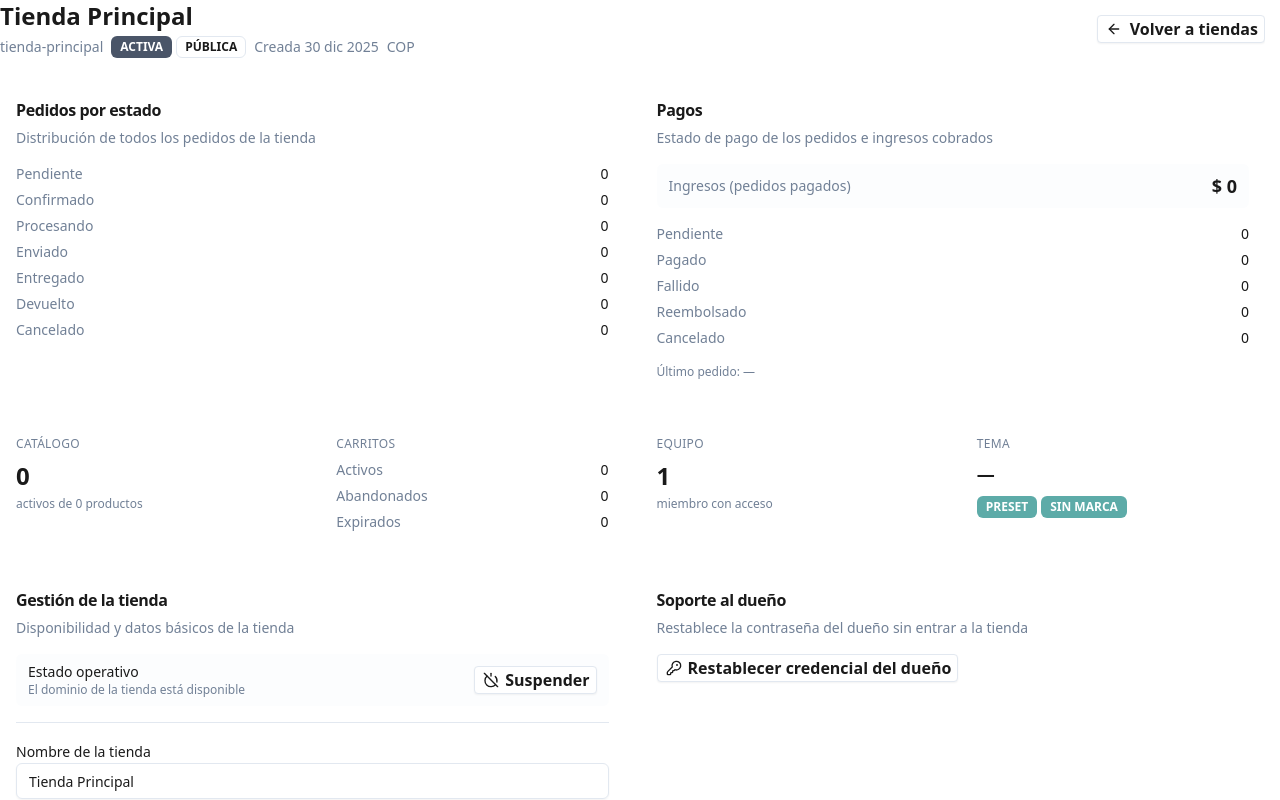
Test: ResetOwnerCredentialButton (D7 soporte) › resets after confirming and shows the one-time temporary password
Click the button "Restablecer credencial del dueño": (807, 668) [656, 654, 958, 682]
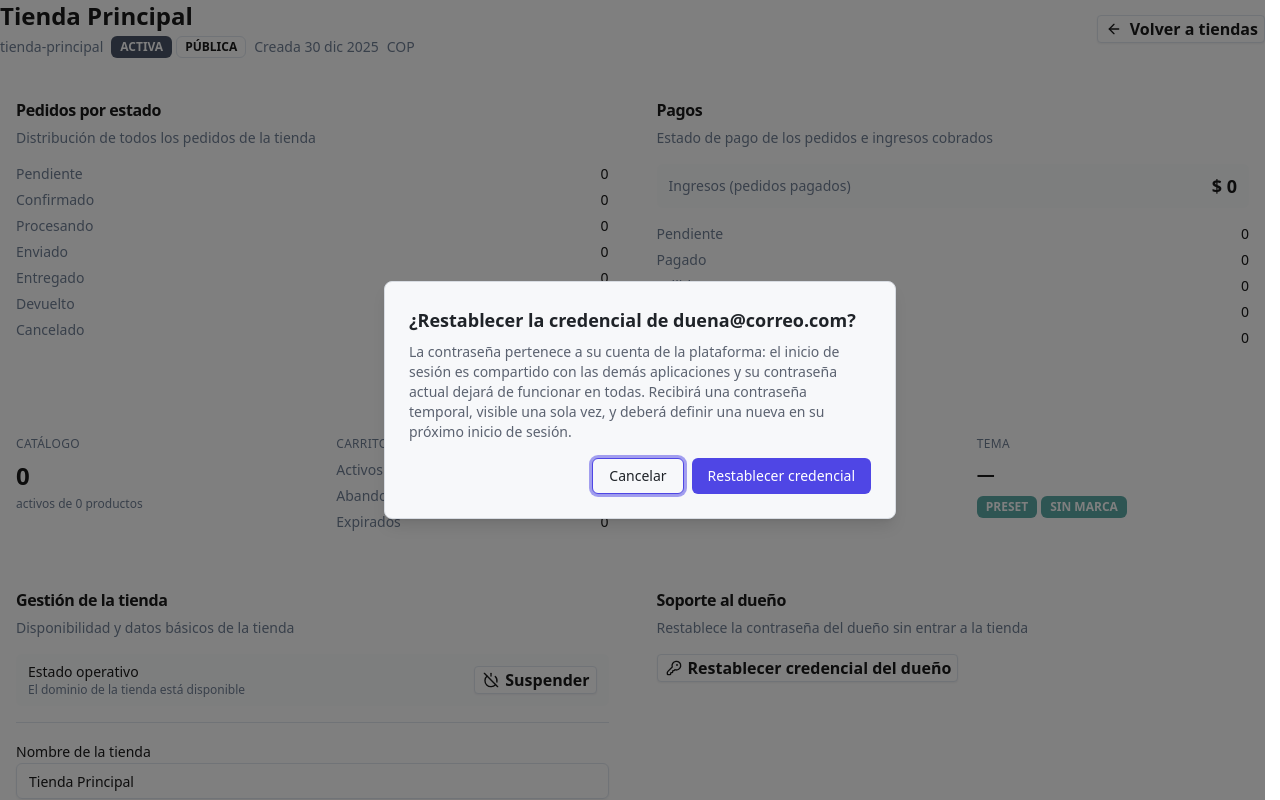
Click the button "Restablecer credencial": (781, 476) [692, 458, 871, 494]
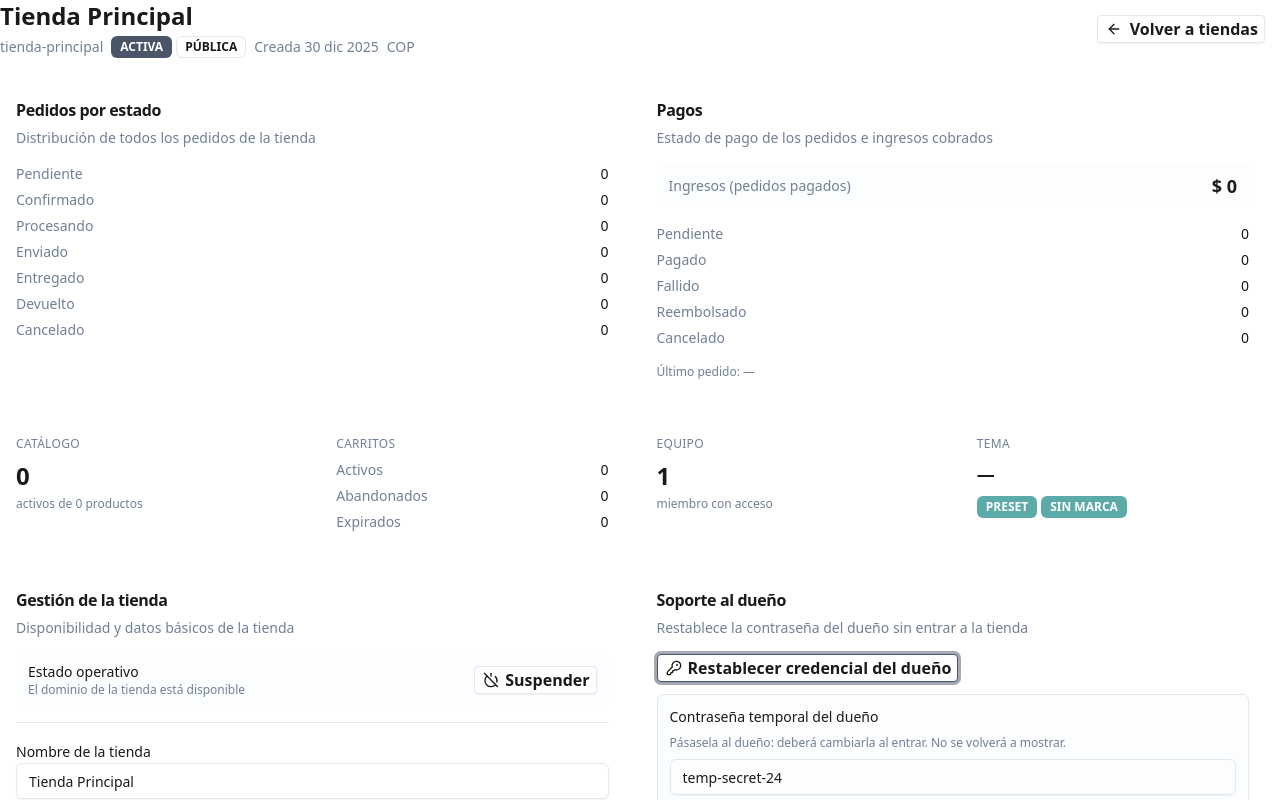
Expected: the field showing "temp-secret-24" is shown, [670, 759, 1236, 795]
Expected: the text "Contraseña temporal del dueño" is shown, [670, 707, 878, 726]
Expected: the text "No se volverá a mostrar" is shown, [771, 734, 1066, 751]
